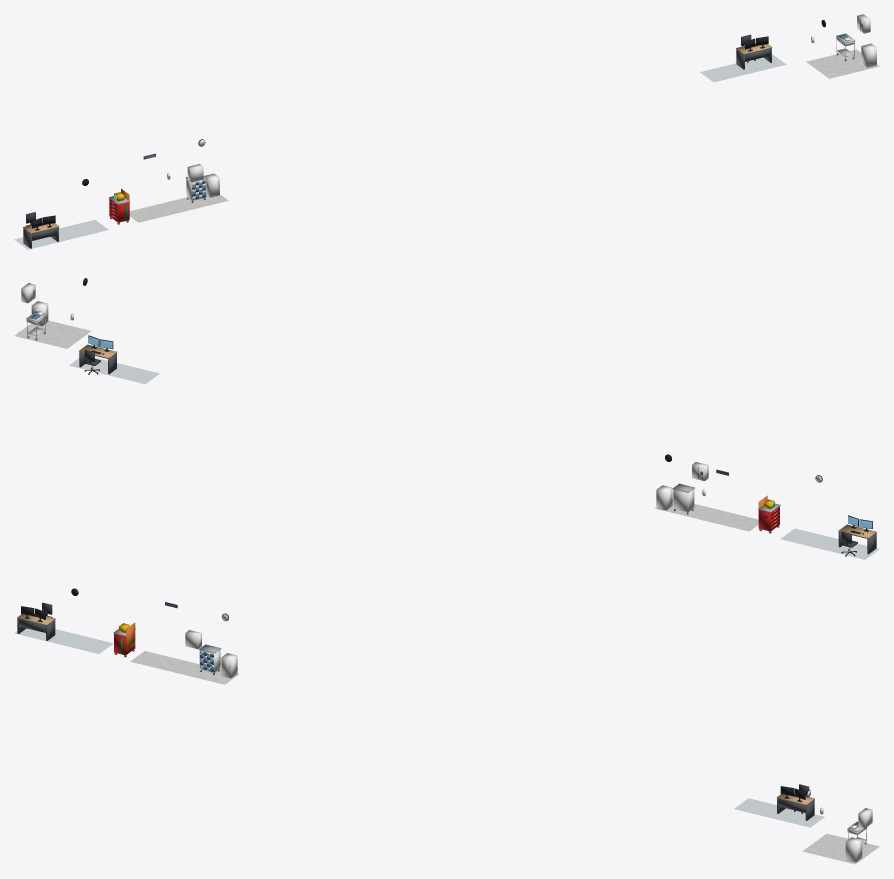
File: 20_n2_centrales_de_enfermeria.glb
The picture shows the model from 3 angles, top to bottom: view 1: azimuth 30°, elevation 25°; view 2: azimuth 150°, elevation 25°; view 3: azimuth 330°, elevation 25°; orthographic projection. The views are drawn at different scales.
Parts seen in each view (by area): view 1: escritorio_operador (×2), piso · Cuarto de medicamentos simulado · hospitalización, piso · Cuarto de medicamentos simulado · UCI, piso · Central de enfermería UCI · bahía, piso · Central de enfermería · bahía, carro_rojo; view 2: escritorio_operador (×2), piso · Cuarto de medicamentos simulado · UCI, piso · Central de enfermería · bahía, piso · Cuarto de medicamentos simulado · hospitalización, piso · Central de enfermería UCI · bahía, carro_rojo, carro_medicamentos; view 3: escritorio_operador (×2), piso · Cuarto de medicamentos simulado · hospitalización, piso · Central de enfermería UCI · bahía, piso · Central de enfermería · bahía, piso · Cuarto de medicamentos simulado · UCI, carro_rojo, carro_medicamentos.
Boxes of the visible parts, x1=… form: escritorio_operador (×2): x1=23, y1=36, x2=772, y2=248; piso · Cuarto de medicamentos simulado · hospitalización: x1=129, y1=194, x2=228, y2=222; piso · Cuarto de medicamentos simulado · UCI: x1=806, y1=49, x2=879, y2=78; piso · Central de enfermería UCI · bahía: x1=700, y1=54, x2=786, y2=82; piso · Central de enfermería · bahía: x1=14, y1=220, x2=108, y2=249; carro_rojo: x1=108, y1=188, x2=130, y2=224; escritorio_operador (×2): x1=79, y1=335, x2=876, y2=554; piso · Cuarto de medicamentos simulado · UCI: x1=14, y1=320, x2=91, y2=348; piso · Central de enfermería · bahía: x1=780, y1=528, x2=879, y2=559; piso · Cuarto de medicamentos simulado · hospitalización: x1=654, y1=499, x2=758, y2=531; piso · Central de enfermería UCI · bahía: x1=69, y1=357, x2=159, y2=384; carro_rojo: x1=758, y1=495, x2=780, y2=533; carro_medicamentos: x1=672, y1=483, x2=694, y2=514; escritorio_operador (×2): x1=17, y1=606, x2=814, y2=820; piso · Cuarto de medicamentos simulado · hospitalización: x1=130, y1=651, x2=238, y2=684; piso · Central de enfermería UCI · bahía: x1=734, y1=798, x2=824, y2=827; piso · Central de enfermería · bahía: x1=14, y1=628, x2=113, y2=653; piso · Cuarto de medicamentos simulado · UCI: x1=802, y1=833, x2=879, y2=864; carro_rojo: x1=113, y1=623, x2=135, y2=657; carro_medicamentos: x1=199, y1=644, x2=221, y2=674.
Bounding box in the file's own units: 40.75 × 2.66 × 3.73.
26 materials, 2 textured.
